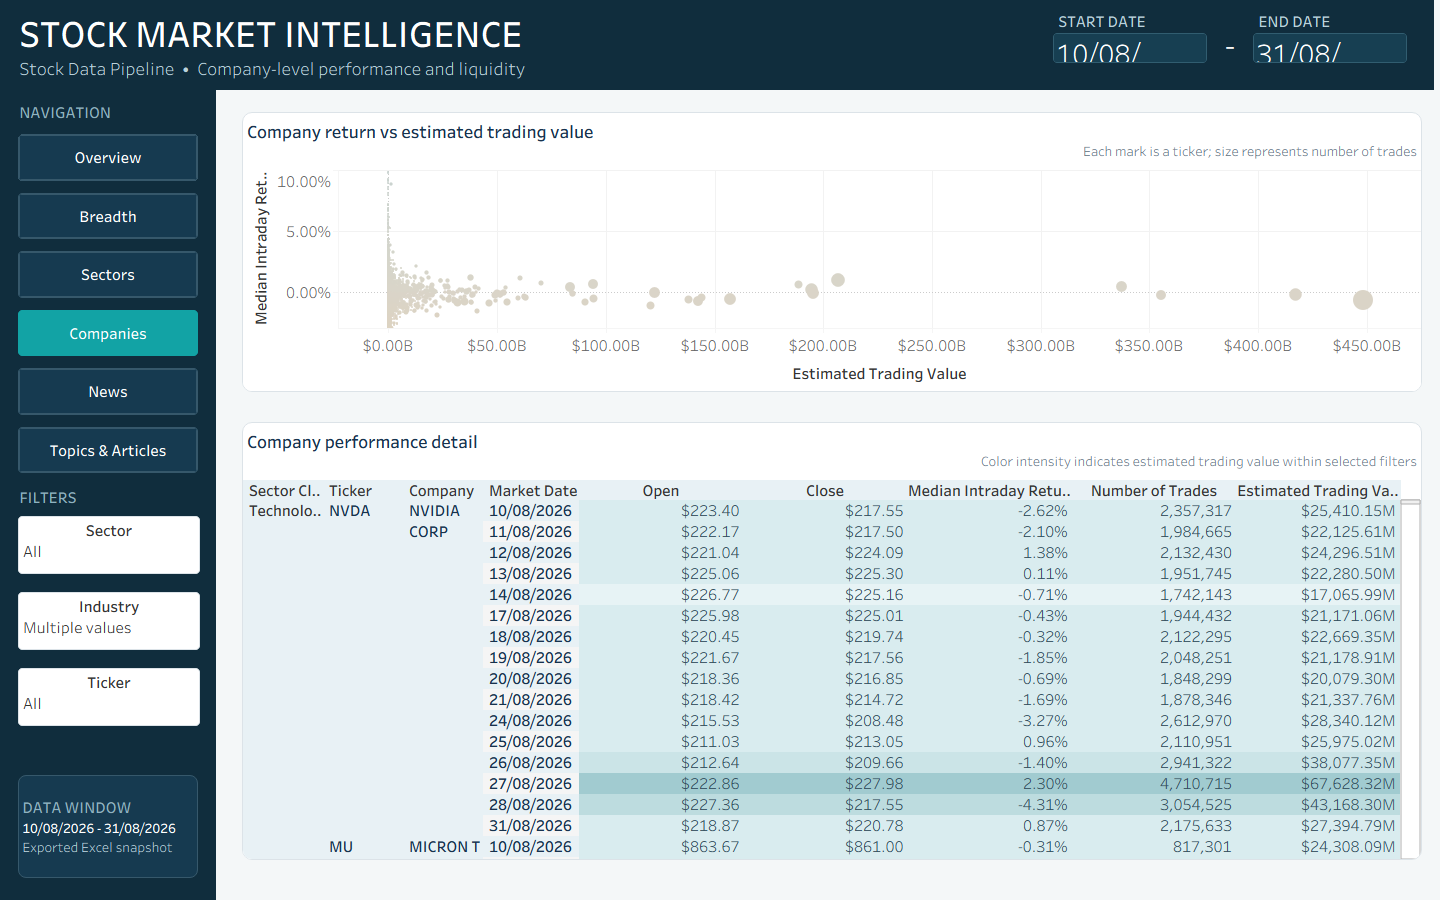

What the dashboard file says about the page in this screenshot:
{"tool":"tableau","page":{"name":"04. Company Explorer","canvas":[1440,900],"ordinal":3},"visuals":[{"type":"blank","box":[0,0,1440,900]},{"type":"text","box":[0,0,1434,90]},{"type":"text","box":[1055,10,150,22]},{"type":"text","box":[1255,10,160,22]},{"type":"parameter","param":"[Parameters].[Parameter 1300762280890369]","box":[1050,30,160,36]},{"type":"text","box":[1176,30,108,28]},{"type":"parameter","param":"[Parameters].[Parameter 1300762280984578]","box":[1250,30,160,36]},{"type":"blank","box":[0,90,216,810]},{"type":"text","box":[14.4,99,187.2,27]},{"type":"worksheet","title":"Company Return vs Trading Value","mark":"Circle","rows":["Calculation_DailyReturn"],"cols":["Calculation_ApproxDollarVolume"],"box":[238,108,1188,288]},{"type":"dashboard-object","box":[14.4,130.5,187.2,54]},{"type":"dashboard-object","box":[14.4,189,187.2,54]},{"type":"dashboard-object","box":[14.4,247.5,187.2,54]},{"type":"dashboard-object","box":[14.4,306,187.2,54]},{"type":"dashboard-object","box":[14.4,364.5,187.2,54]},{"type":"worksheet","title":"Company Detail Table","mark":"Square","rows":["Calculation_SectorClean","ticker","name","date"],"box":[237.6,418.5,1188,445.5]},{"type":"dashboard-object","box":[14.4,423,187.2,54]},{"type":"text","box":[14.4,486,187.2,22.5]},{"type":"filter","title":"Company Detail Table","param":"[federated.11qdke01tbc8mv13ne5071r7qorc].[none:Calculation_SectorClean:nk]","box":[15,513,188,64]},{"type":"filter","title":"Company Detail Table","param":"[federated.11qdke01tbc8mv13ne5071r7qorc].[none:Calculation_IndustryClean:nk]","box":[15,589,188,64]},{"type":"filter","title":"Company Detail Table","param":"[federated.11qdke01tbc8mv13ne5071r7qorc].[none:ticker:nk]","box":[15,665,188,64]},{"type":"text","box":[14,771,188,111]},{"type":"text","box":[15,809,172,38]}]}

Visuals, with their boxes in screenshot pixels (x1, y1, x2, y2), scaled from the page's 1440x900 canvas onto the 1440x900 screenshot:
blank: box=[0, 0, 1439, 899]
text: box=[0, 0, 1434, 90]
text: box=[1055, 10, 1205, 32]
text: box=[1255, 10, 1415, 32]
parameter: box=[1050, 30, 1210, 66]
text: box=[1176, 30, 1284, 58]
parameter: box=[1250, 30, 1410, 66]
blank: box=[0, 90, 216, 899]
text: box=[14, 99, 202, 126]
"Company Return vs Trading Value" worksheet (Circle marks): box=[238, 108, 1426, 396]
dashboard-object: box=[14, 130, 202, 184]
dashboard-object: box=[14, 189, 202, 243]
dashboard-object: box=[14, 248, 202, 302]
dashboard-object: box=[14, 306, 202, 360]
dashboard-object: box=[14, 364, 202, 418]
"Company Detail Table" worksheet (Square marks): box=[238, 418, 1426, 864]
dashboard-object: box=[14, 423, 202, 477]
text: box=[14, 486, 202, 508]
"Company Detail Table" filter: box=[15, 513, 203, 577]
"Company Detail Table" filter: box=[15, 589, 203, 653]
"Company Detail Table" filter: box=[15, 665, 203, 729]
text: box=[14, 771, 202, 882]
text: box=[15, 809, 187, 847]
